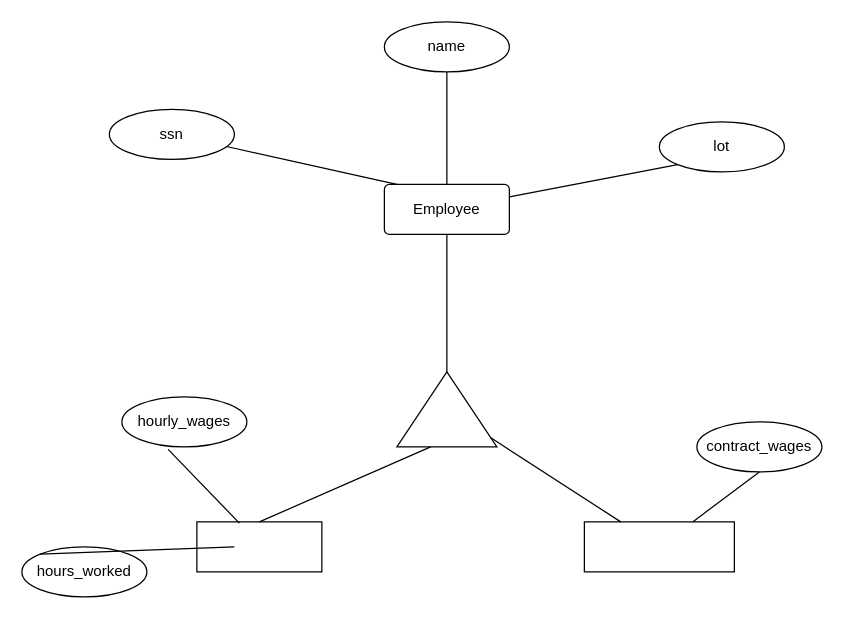
The diagram is 844 pixels wide and 619 high, and some of its shapes have lost their labels. Each missing label, with the box of its shape:
CONTRACT_EMPS: (583, 521, 734, 572)
HOURLY_EMPS: (196, 521, 322, 572)
ISA: (396, 371, 497, 447)
